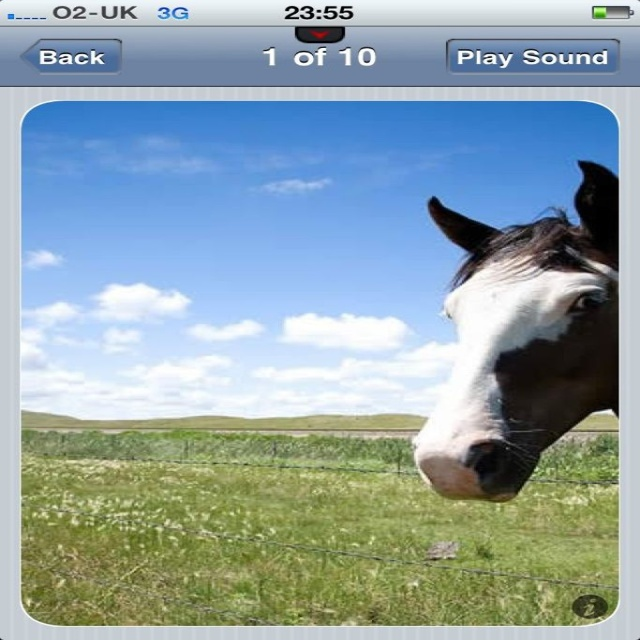Horse: (411, 159, 616, 509)
